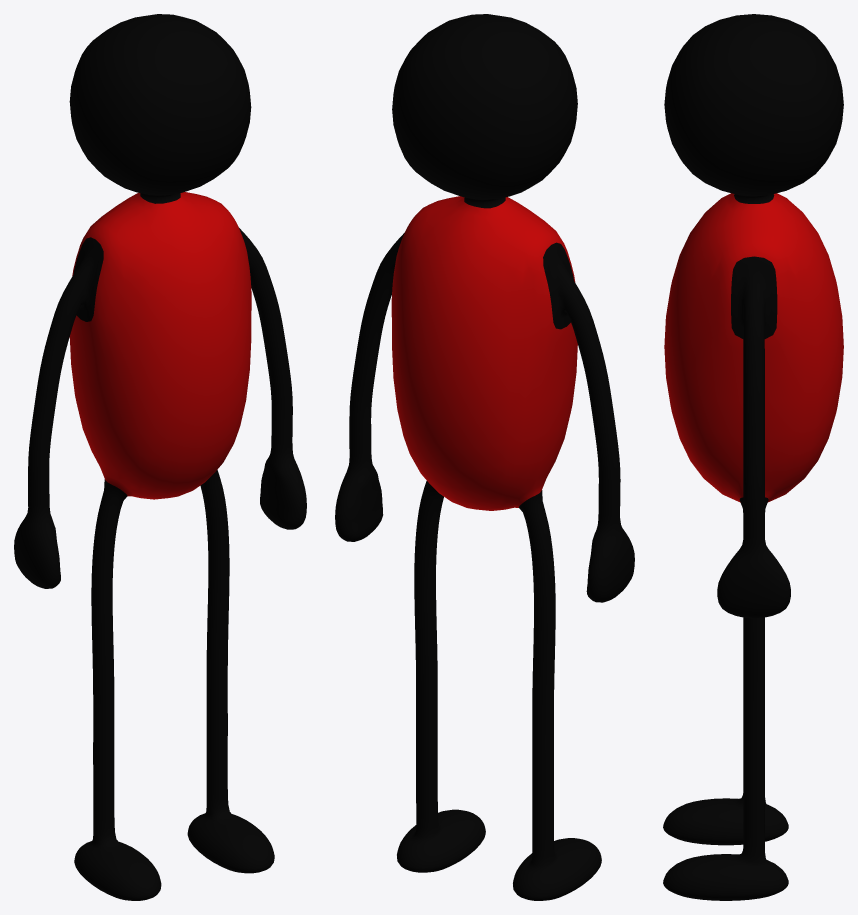
File: stickman1.fbx
The picture shows the model from 3 angles, left to right: view 1: azimuth 30°, elevation 25°; view 2: azimuth 150°, elevation 25°; view 3: azimuth 270°, elevation 25°; orthographic projection. The views are drawn at different scales.
Visible parts, largest first — view 1: cheast; view 2: cheast; view 3: cheast.
Boxes of the visible parts, <box> form: cheast: <box>14,14,306,900</box>; cheast: <box>335,14,634,900</box>; cheast: <box>663,14,843,900</box>.
Bounding box in the file's own units: 0.3379 × 0.9909 × 0.1924.
